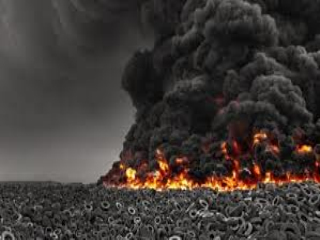fire: (121, 156, 291, 192)
smoke: (120, 7, 314, 152)
